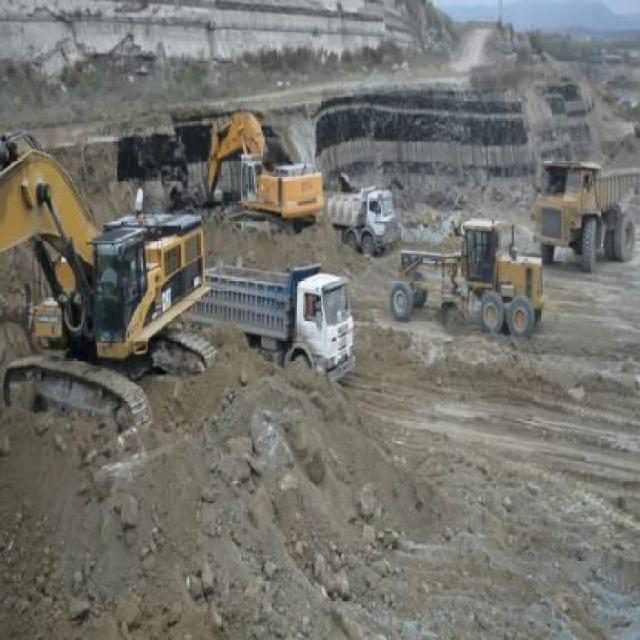buldozerpayloadergrader: (388, 219, 546, 338)
dump_truck: (196, 262, 358, 387), (534, 158, 637, 270)
excavator: (1, 133, 216, 436), (188, 108, 323, 237)
